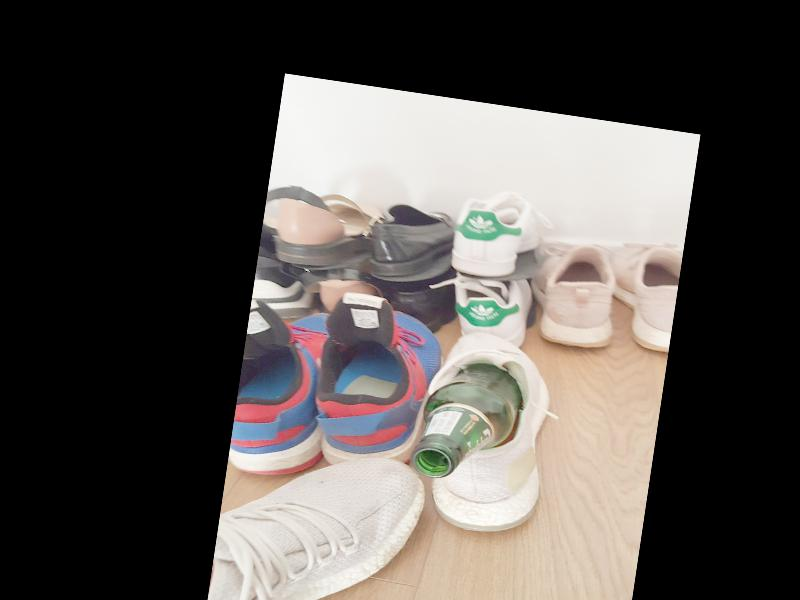Beer: (411, 356, 524, 487)
